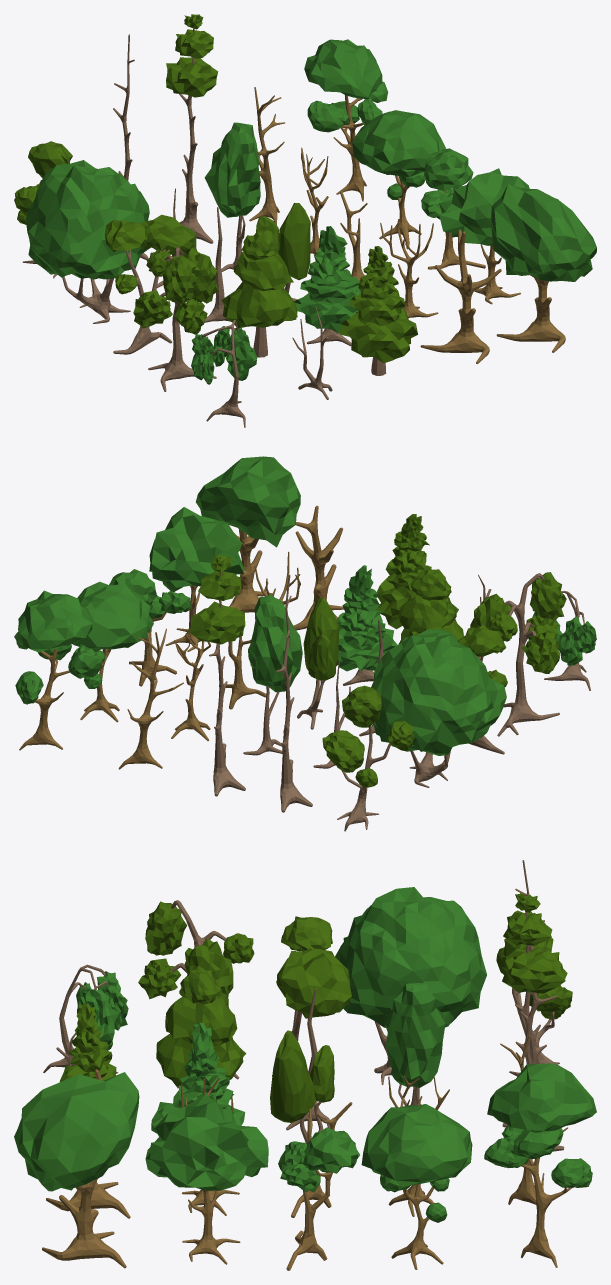
The model's file is Trees.fbx.
The picture shows the model from 3 angles, top to bottom: view 1: azimuth 30°, elevation 25°; view 2: azimuth 150°, elevation 25°; view 3: azimuth 270°, elevation 25°; orthographic projection. The views are drawn at different scales.
Visible parts, largest first — view 1: Tree14, Tree5, Tree.001, Tree12, Tree2, Tree10, Tree10NoLife, Tree9, Tree7, Tree4, Tree6.001, Tree13 (+12 smaller); view 2: Tree14, Tree5, Tree.001, Tree12, Tree4, Tree2, Tree15, Tree6.001, Tree7, Tree9, Tree10, Tree10NoLife (+9 smaller); view 3: Tree14, Tree5, Tree.001, Tree4, Tree2, Tree12, Tree13, Tree10NoLife, Tree7, Tree6.001, Tree3., Tree8 (+11 smaller).
Boxes of the visible parts, x1,y1,x2,y2 form: Tree14: (26,160,150,323); Tree5: (491,184,596,352); Tree.001: (304,39,388,201); Tree12: (133,247,218,391); Tree2: (352,110,445,249); Tree10: (339,246,417,375); Tree10NoLife: (221,230,297,357); Tree9: (294,226,361,346); Tree7: (204,122,260,271); Tree4: (439,168,529,304); Tree6.001: (166,14,218,243); Tree13: (104,214,196,354); Tree14: (371,629,506,787); Tree5: (196,456,300,612); Tree.001: (14,590,102,750); Tree12: (470,572,566,736); Tree4: (149,507,244,651); Tree2: (71,581,153,722); Tree15: (322,685,414,831); Tree6.001: (189,554,245,796); Tree7: (243,594,302,755); Tree9: (337,565,397,685); Tree10: (376,514,431,629); Tree10NoLife: (398,569,464,644); Tree14: (335,887,486,1084); Tree5: (14,1072,139,1268); Tree.001: (484,1063,596,1267); Tree4: (145,1094,268,1264); Tree2: (361,1104,472,1269); Tree12: (138,900,254,1088); Tree13: (272,916,351,1076); Tree10NoLife: (156,968,246,1086); Tree7: (385,982,445,1105); Tree6.001: (501,892,567,1151); Tree3.: (278,1127,359,1270); Tree8: (270,1030,334,1143).
Size of the model in its own units: 21.25 by 11.26 by 21.78.
